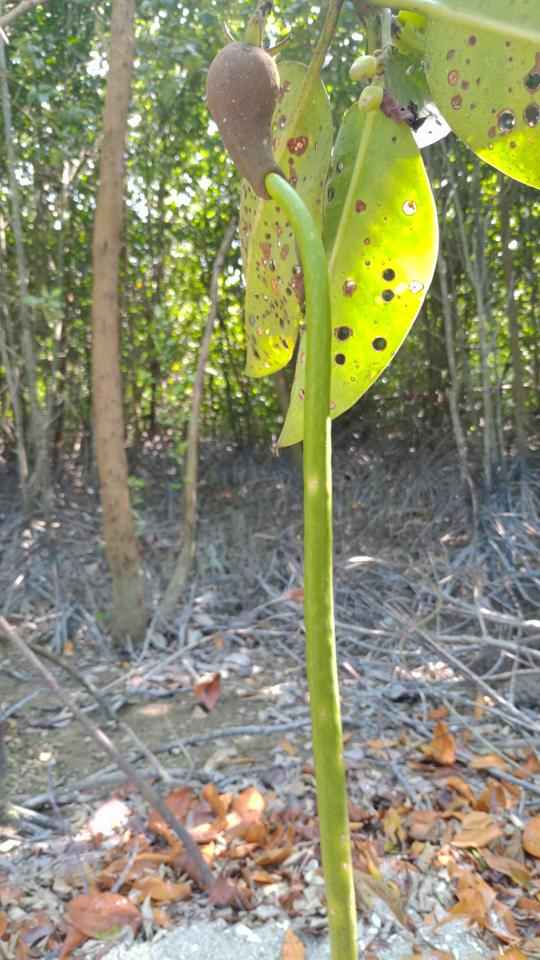mentah: (174, 14, 397, 956)
